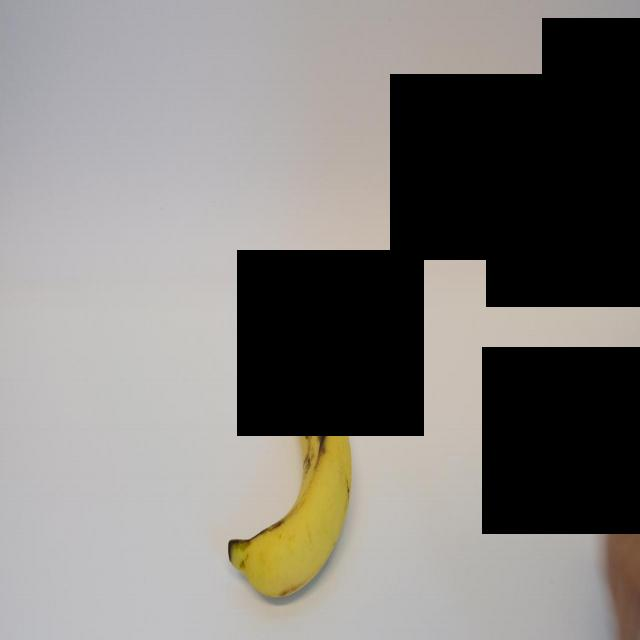banana: (230, 342, 352, 608)
